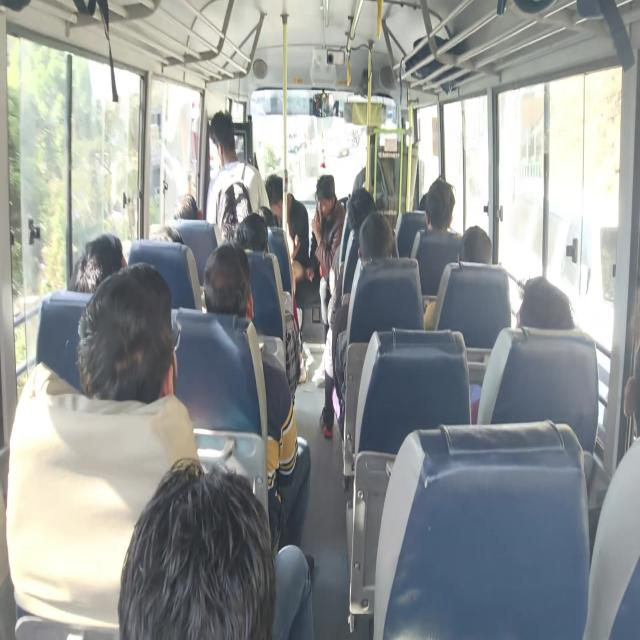person: (119, 459, 278, 638), (499, 278, 591, 458), (76, 264, 176, 404), (429, 226, 498, 333), (410, 180, 463, 298), (275, 174, 313, 302), (202, 241, 252, 319), (517, 275, 577, 332), (70, 234, 125, 295), (357, 210, 395, 262), (207, 110, 240, 168), (315, 174, 343, 240), (426, 178, 456, 232), (233, 211, 270, 253), (459, 224, 492, 266), (174, 193, 202, 220), (149, 224, 186, 243), (259, 206, 277, 231), (418, 193, 430, 213)
